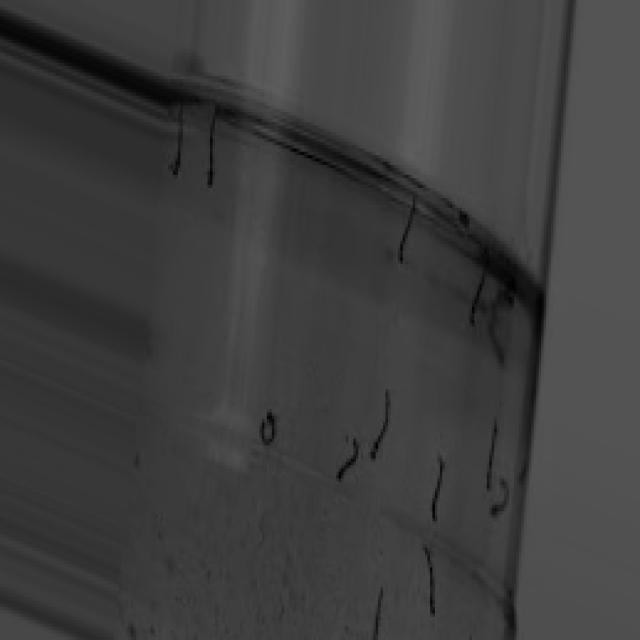larvas: (370, 390, 391, 462), (470, 258, 491, 328), (428, 459, 446, 525), (399, 201, 418, 263), (339, 438, 360, 481), (485, 420, 497, 492), (484, 322, 503, 366), (173, 105, 184, 177), (425, 548, 435, 615), (491, 482, 508, 520), (371, 587, 383, 640), (493, 288, 514, 316), (208, 110, 215, 188), (260, 414, 276, 448)
